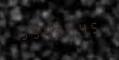five: (65, 19, 76, 38), (89, 17, 100, 36)
four: (41, 21, 52, 40), (77, 18, 88, 37)
nine: (29, 22, 40, 41)
three: (17, 23, 28, 42), (53, 20, 64, 39)
